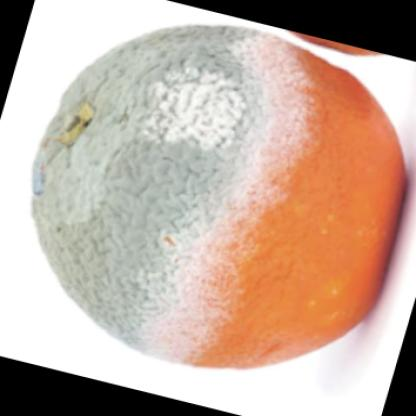rotten: (33, 25, 407, 366)
